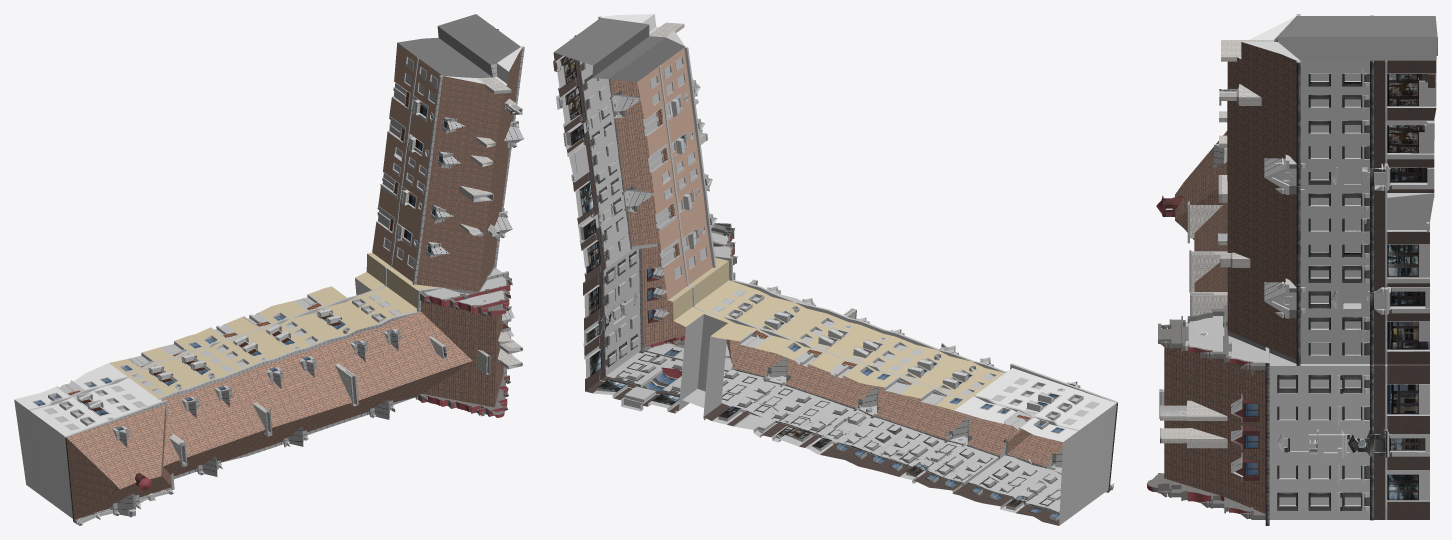
File: Niguliste_2-origo.obj
3 renders of one model, left to right at view 1: azimuth 30°, elevation 25°; view 2: azimuth 150°, elevation 25°; view 3: azimuth 270°, elevation 25°, orthographic. The views are drawn at different scales.
Parts seen in each view (by area): view 1: Niguliste_2; view 2: Niguliste_2; view 3: Niguliste_2.
Part boxes in pixels (bbox=[...]): Niguliste_2: bbox=[14, 14, 524, 525]; Niguliste_2: bbox=[553, 14, 1118, 525]; Niguliste_2: bbox=[1147, 14, 1437, 525].
Size of the model in its own units: 82.62 by 58 by 28.85.
